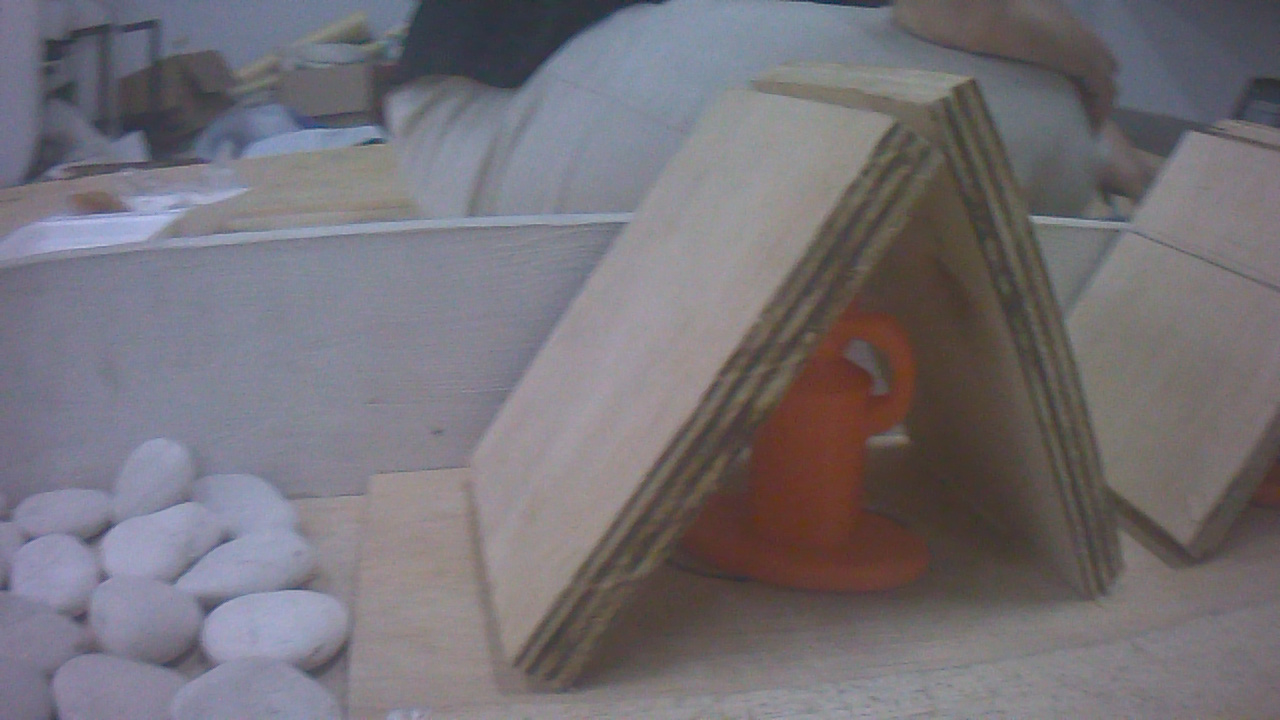real: (703, 290, 918, 604)
